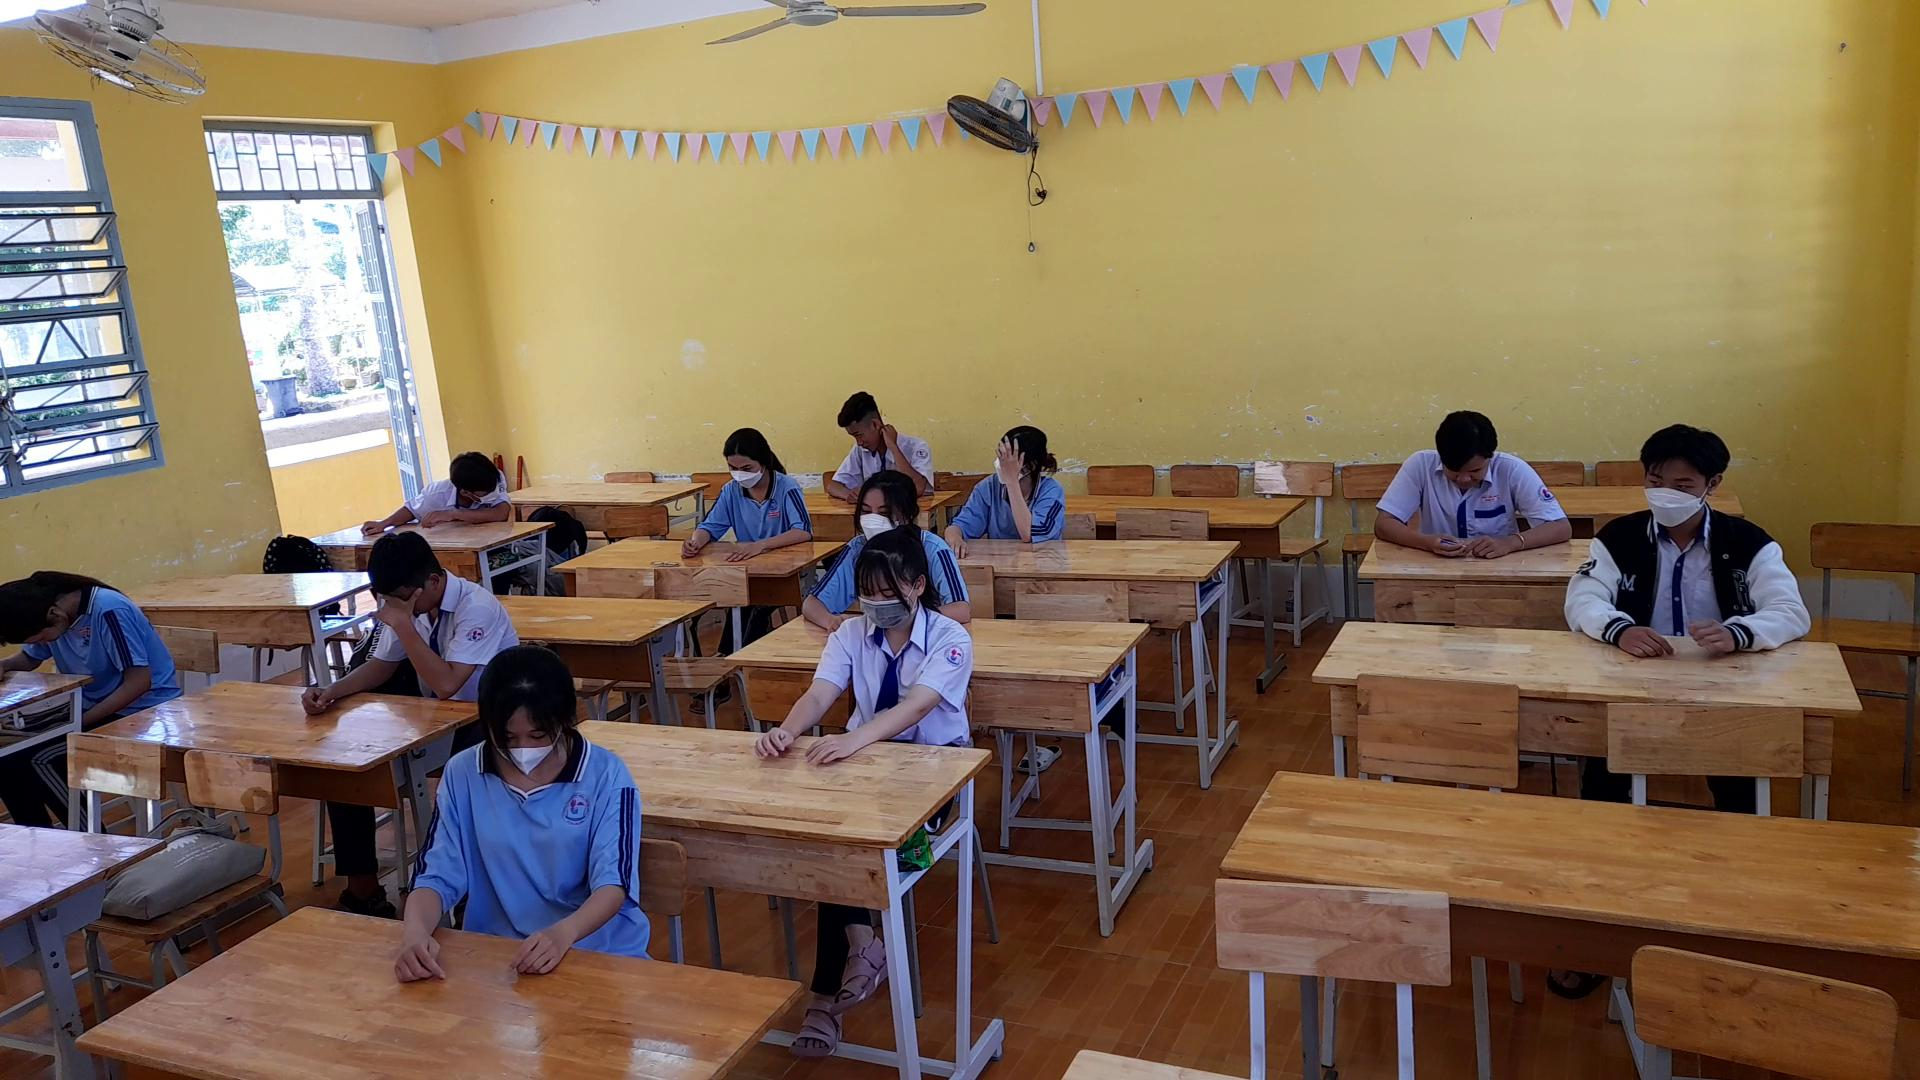Bend Over The Desk: (456, 640, 583, 773), (3, 543, 92, 657), (359, 512, 447, 626), (1422, 389, 1509, 504), (825, 378, 895, 463)
Hand Under Table: (71, 611, 152, 740)
Look Around: (431, 446, 531, 527)
Normal: (1556, 409, 1808, 663), (735, 522, 986, 775), (676, 415, 822, 567)
Wave: (359, 597, 481, 699), (992, 433, 1044, 546)
